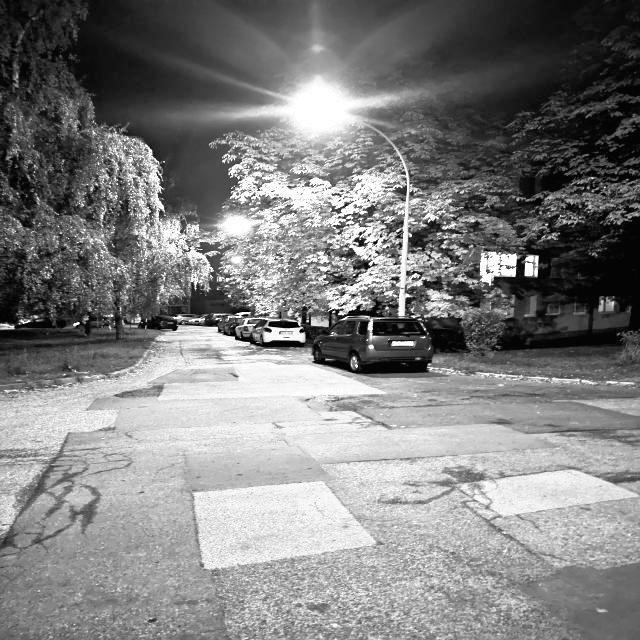Light: (304, 91, 412, 317), (222, 216, 257, 239), (223, 251, 248, 269)
